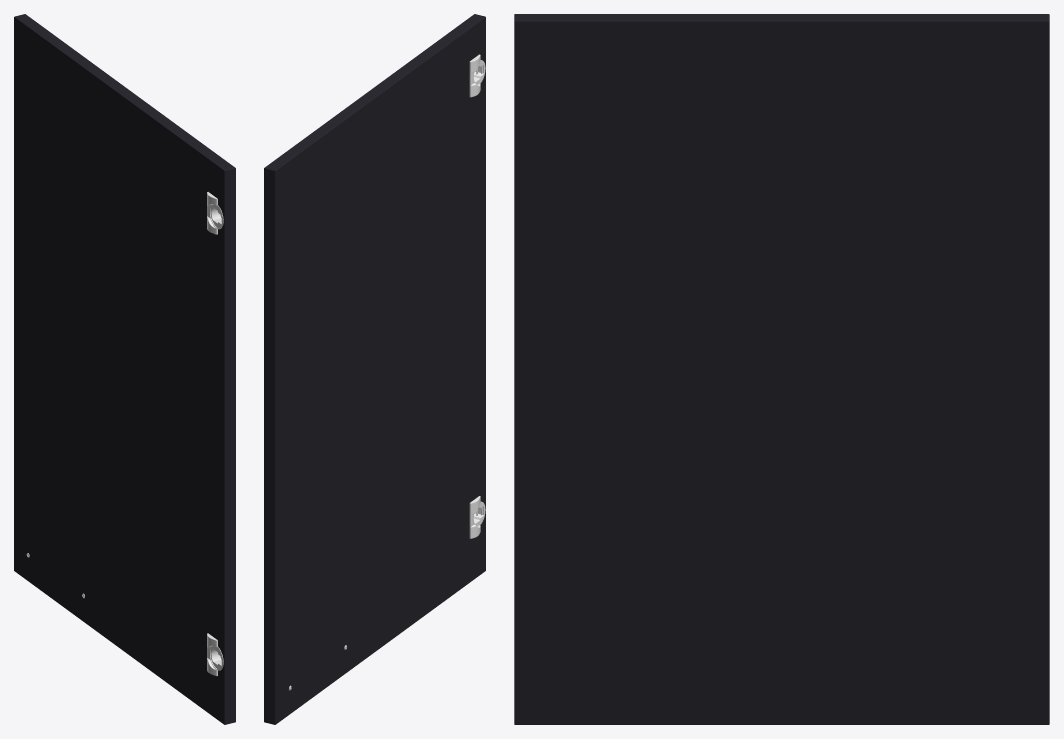
The model's file is Kitchen01Door01.fbx.
3 renders of one model, left to right at view 1: azimuth 30°, elevation 25°; view 2: azimuth 150°, elevation 25°; view 3: azimuth 270°, elevation 25°, orthographic. The views are drawn at different scales.
Parts seen in each view (by area): view 1: Kitchen01Door01; view 2: Kitchen01Door01; view 3: Kitchen01Door01.
Boxes of the visible parts, x1,y1,x2,y2 form: Kitchen01Door01: (14,14,235,724); Kitchen01Door01: (264,14,485,724); Kitchen01Door01: (514,14,1049,724).
Size of the model in its own units: 2.49 by 59.69 by 86.68.
Materials: 3 (2 with a texture image).
